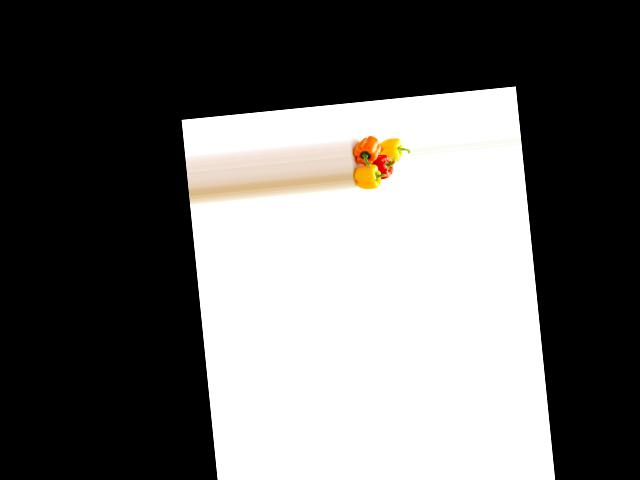bell_pepper: (351, 156, 386, 191)
